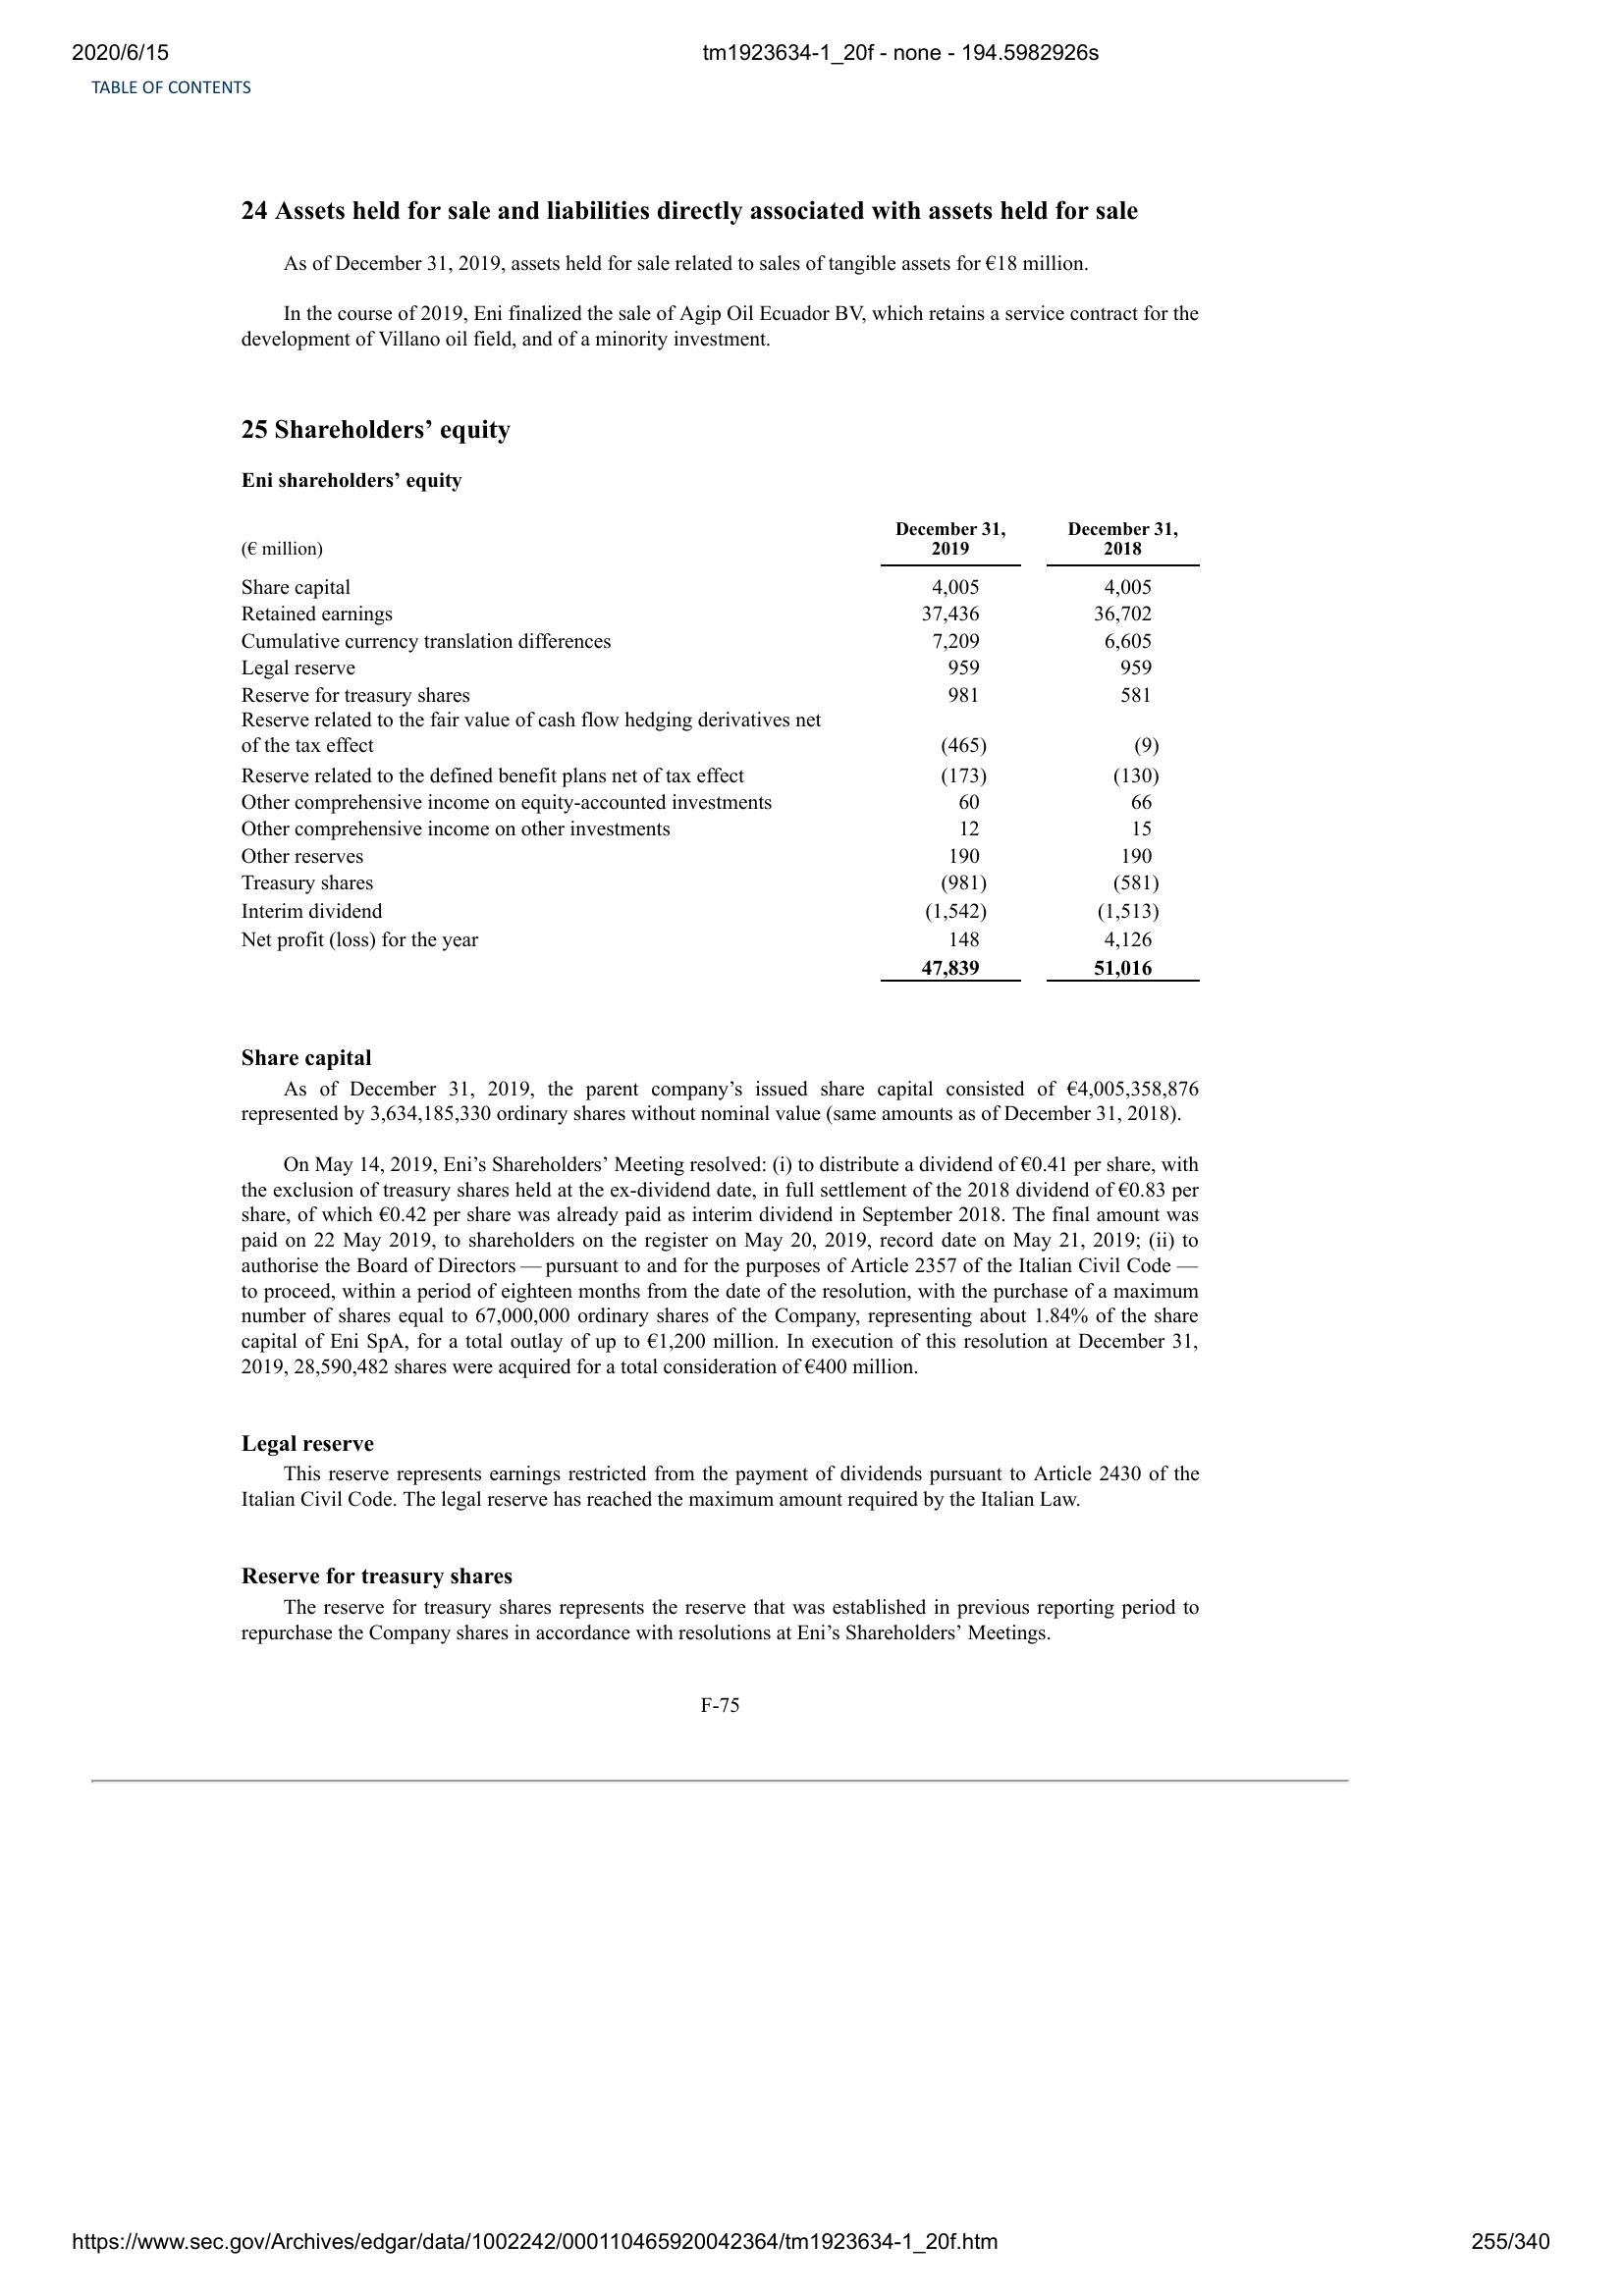table: (237, 518, 1203, 992)
